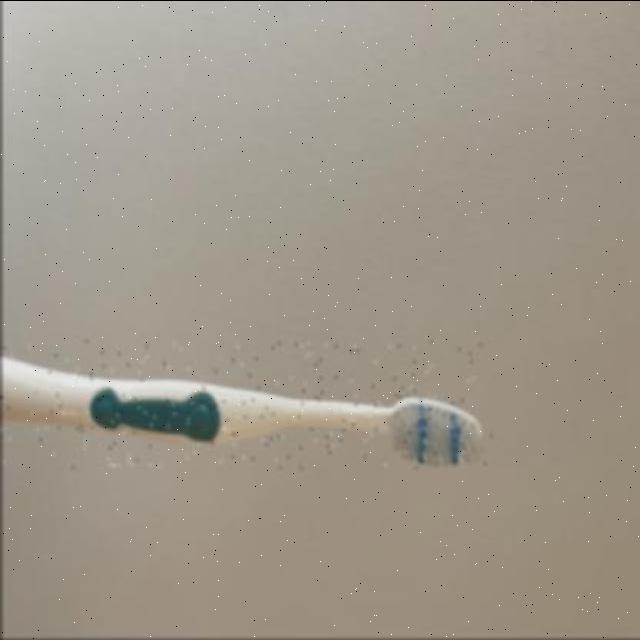toothbrush: (1, 342, 493, 468)
